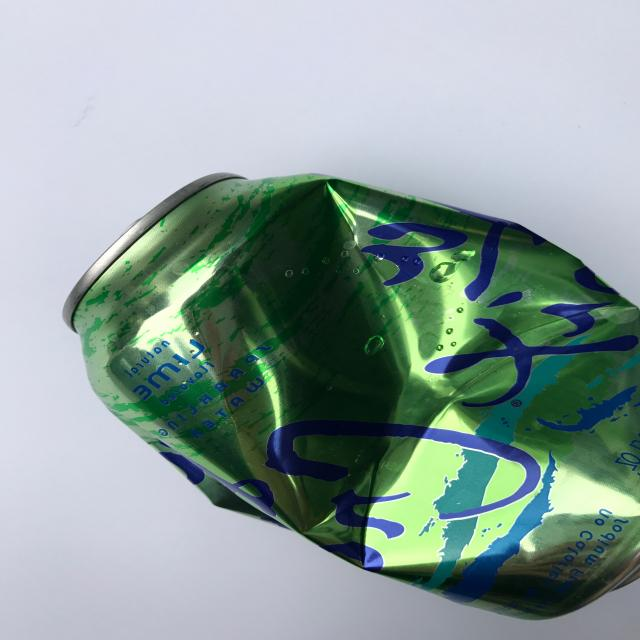metal: (62, 170, 640, 621)
